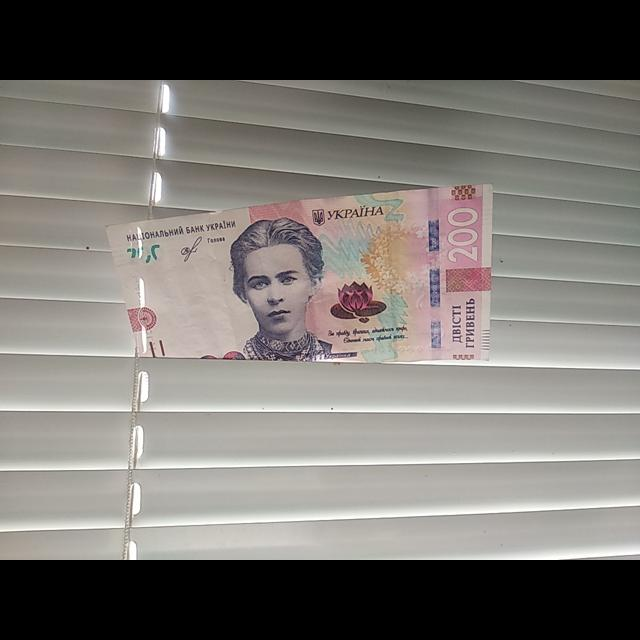200uah: (105, 186, 493, 364)
